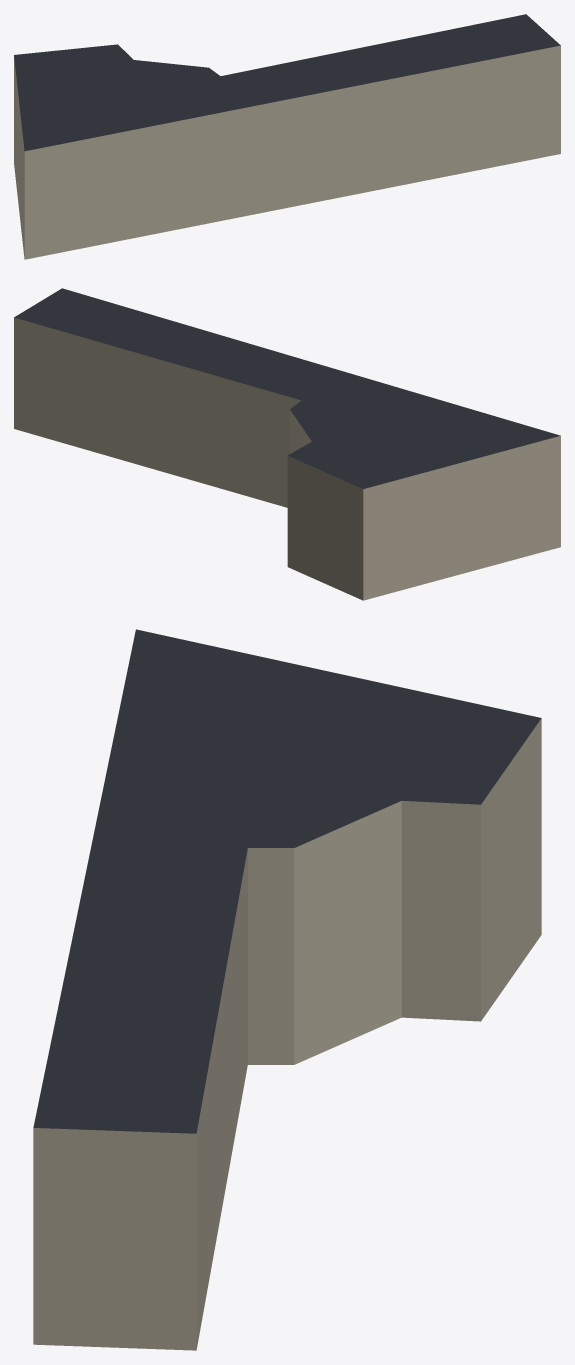
3 renders of one model, top to bottom at view 1: azimuth 30°, elevation 25°; view 2: azimuth 150°, elevation 25°; view 3: azimuth 270°, elevation 25°, orthographic. The views are drawn at different scales.
Parts seen in each view (by area): view 1: tuile; view 2: tuile; view 3: tuile.
Boxes of the visible parts, bbox=[...] form: tuile: bbox=[14, 14, 560, 259]; tuile: bbox=[14, 288, 560, 600]; tuile: bbox=[33, 629, 541, 1350].
Size of the model in its own units: 25.6 by 5.13 by 10.9.
